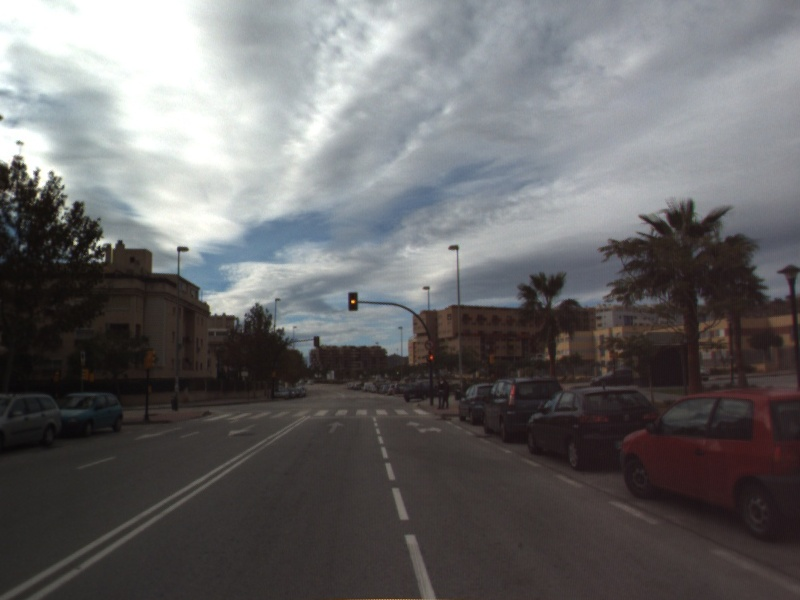STRAIGHT: (325, 419, 346, 435)
STRAIGHT_RIGHT: (404, 419, 444, 435)
